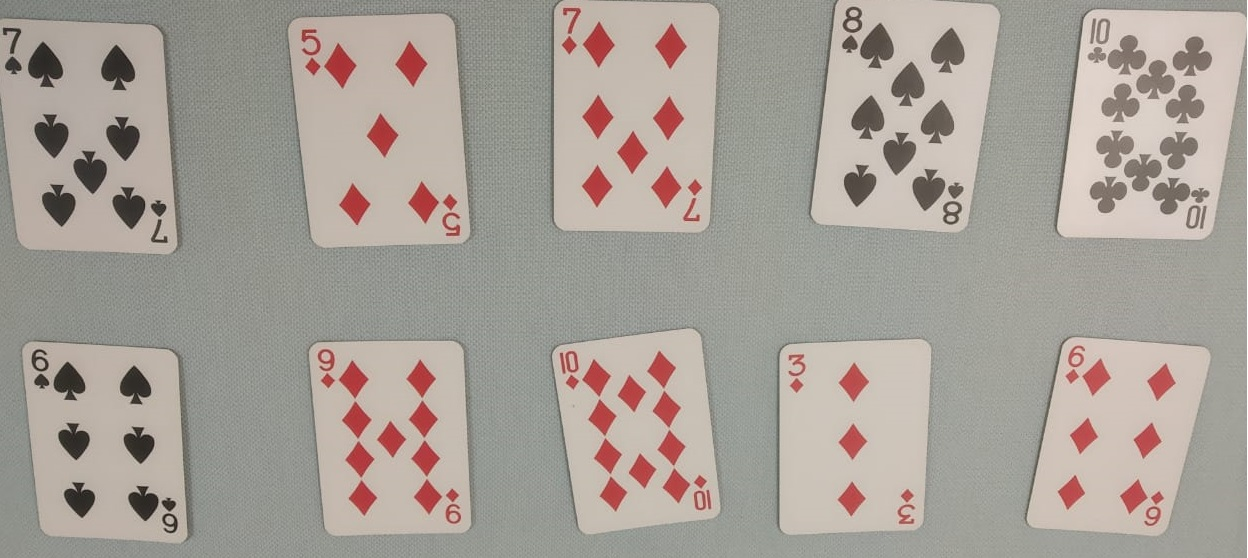eight: (800, 1, 1009, 259)
five: (271, 5, 494, 266)
nine: (297, 329, 489, 543)
seven: (538, 1, 727, 264), (1, 9, 190, 271)
six: (1016, 329, 1220, 550), (16, 334, 200, 549)
ten: (1051, 1, 1247, 269), (536, 318, 743, 542)
three: (768, 326, 941, 542)
